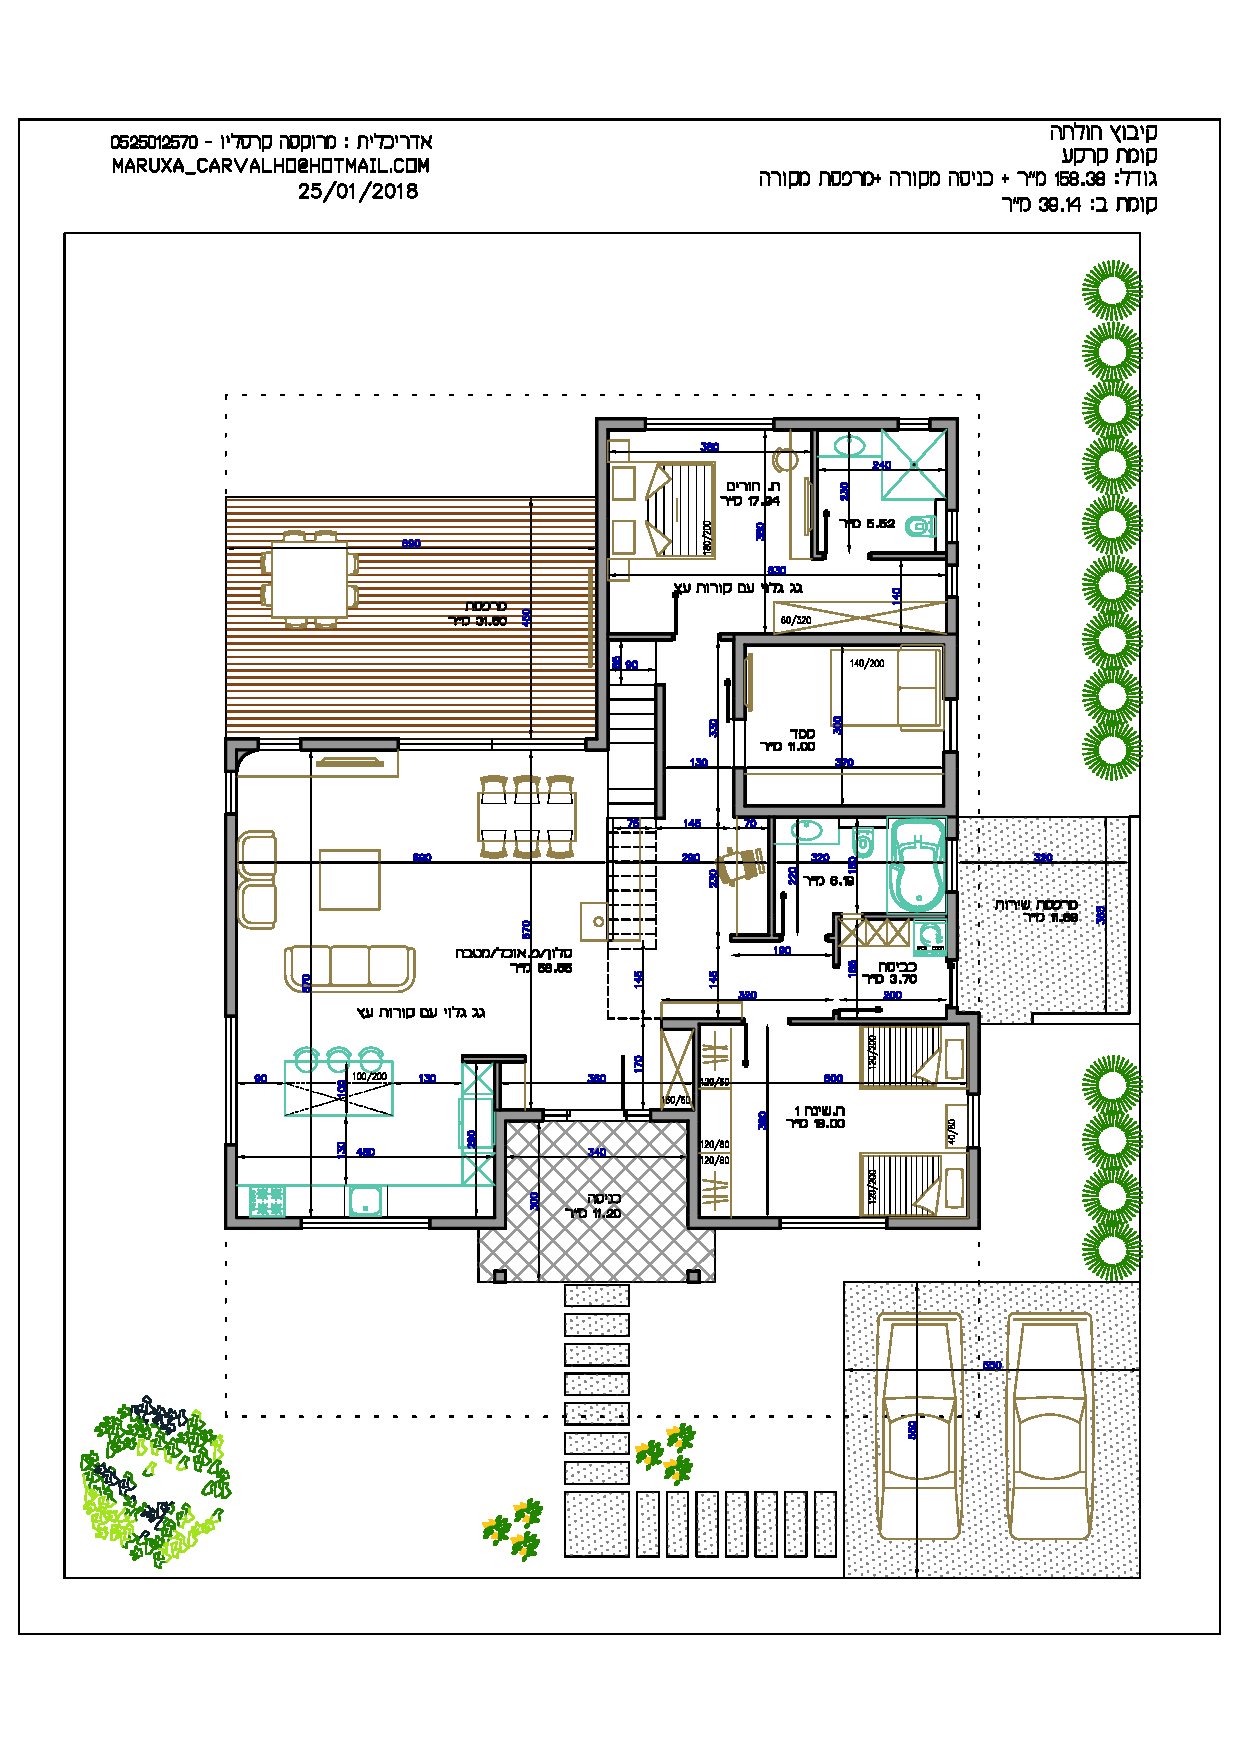wall: (596, 417, 611, 752), (734, 804, 955, 819), (224, 813, 236, 1015), (734, 635, 951, 644), (688, 1215, 782, 1229), (224, 1145, 236, 1227), (688, 1108, 696, 1231), (229, 1219, 302, 1228)
window: (782, 1216, 888, 1231), (645, 417, 773, 429), (227, 1015, 238, 1146), (302, 1217, 429, 1228), (968, 1091, 980, 1145), (947, 837, 960, 888), (945, 701, 957, 752), (896, 417, 929, 431)
